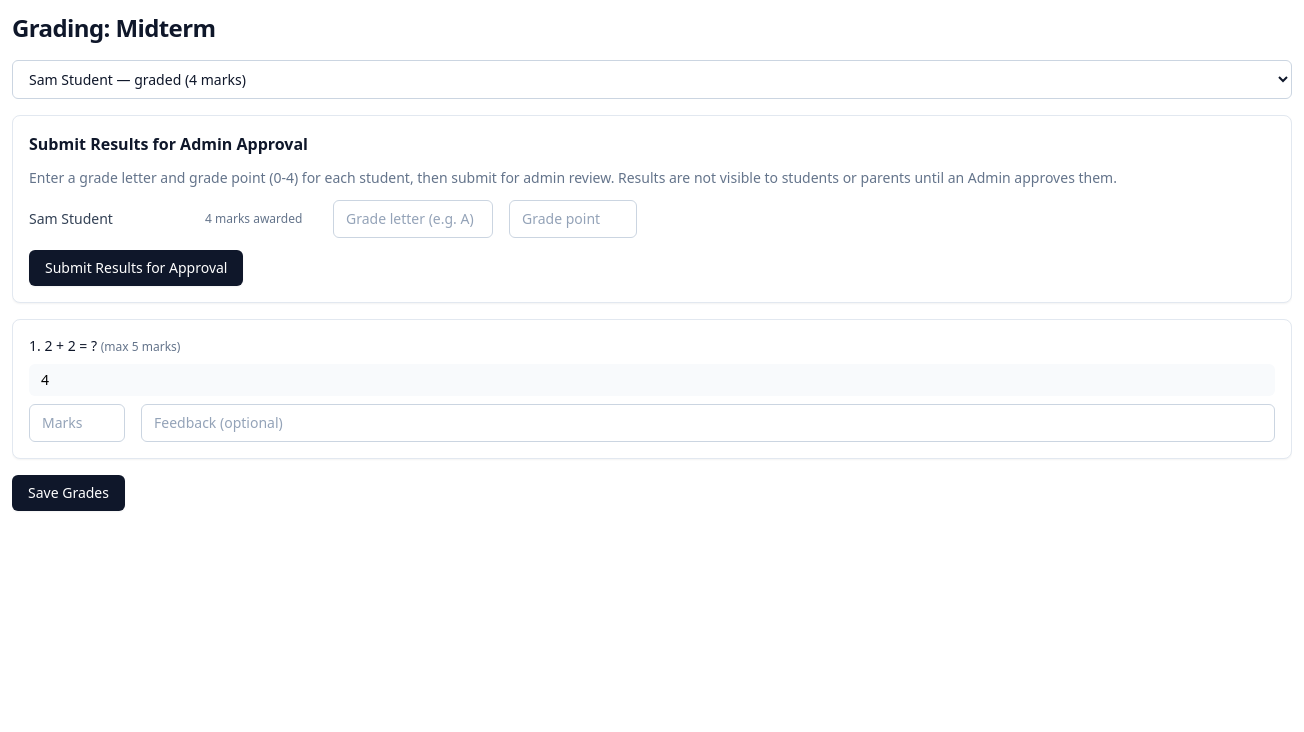
Test: GradingInterfacePage — Submit Results for Approval (FR-034) › submits grade_letter/grade_point per student once published and fully graded
Expected: the heading "Submit Results for Admin Approval" is shown, [29,133,308,155]
Type "A" into the field with placeholder "Grade letter (e.g. A)" at (413, 219), box [333,200,493,238]
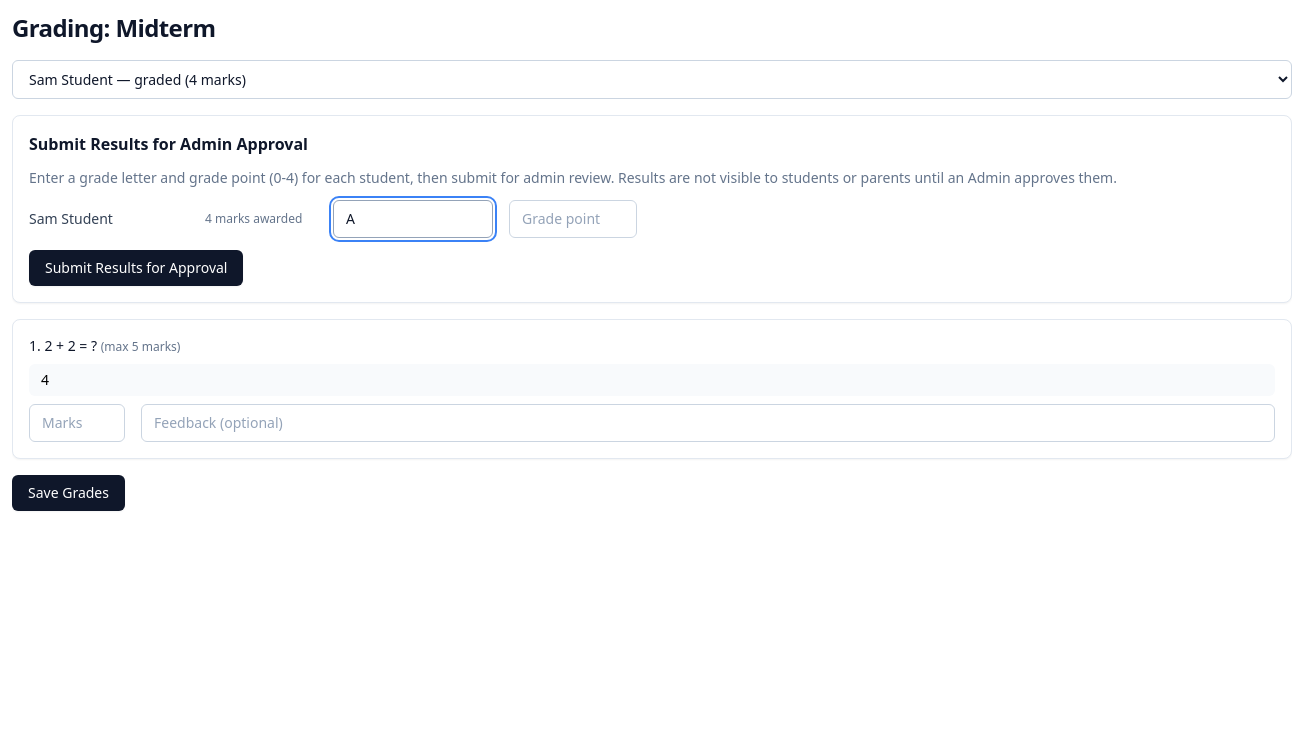
Type "4" into the number field with placeholder "Grade point" at (573, 219), box [509,200,637,238]
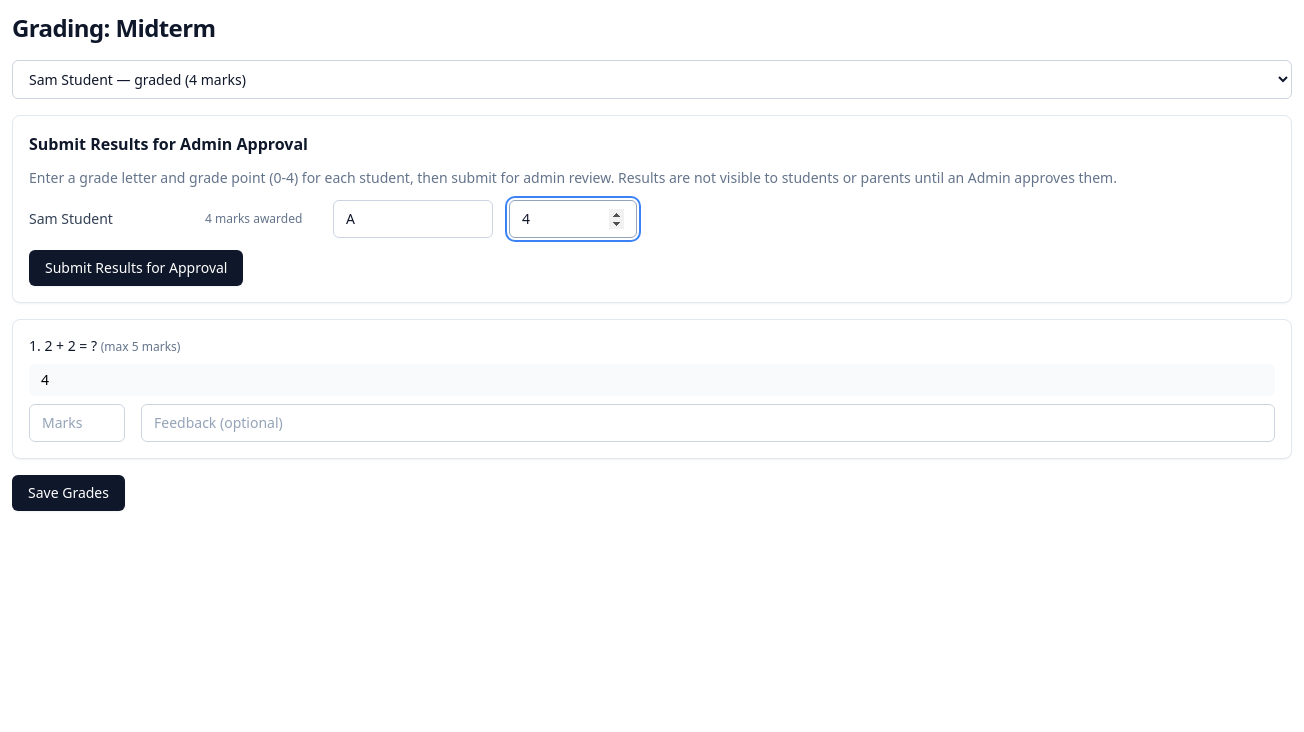
Click the button "Submit Results for Approval" at (136, 268), box [29,250,244,286]
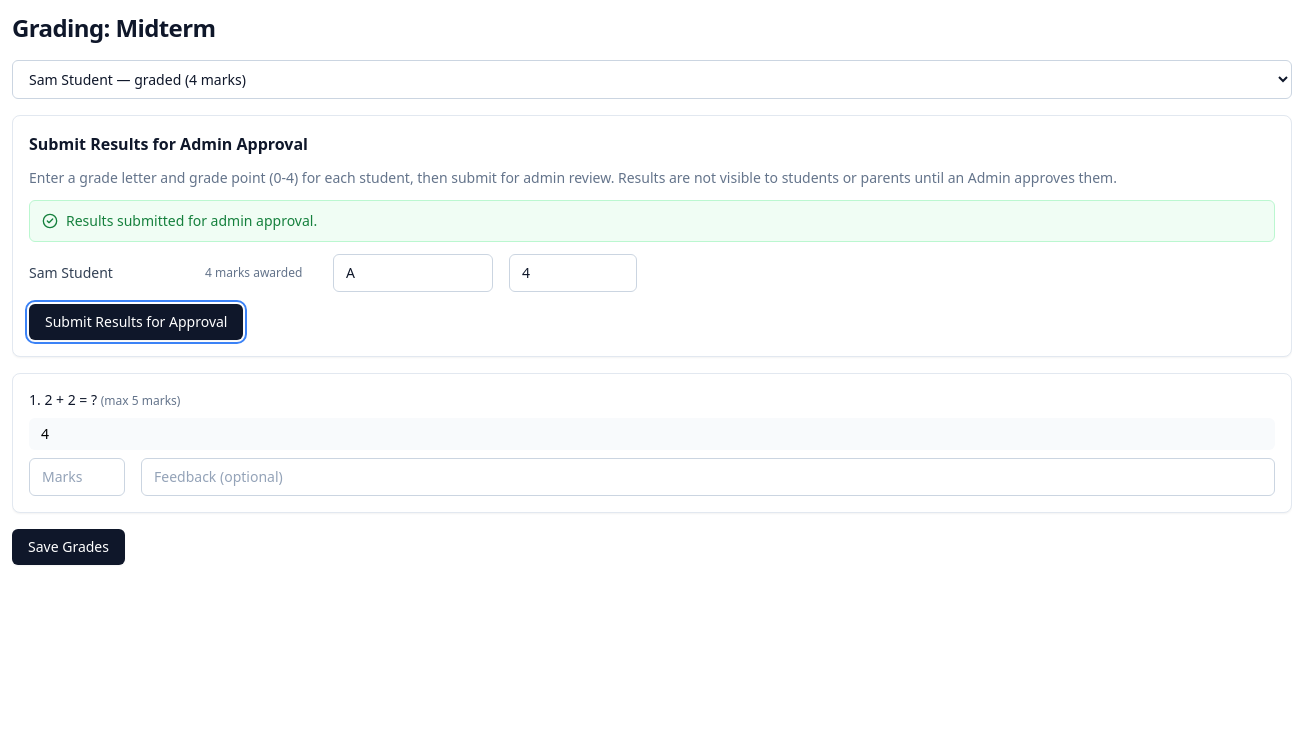
Expected: the text "Results submitted for admin approval." is shown, [66,211,317,231]
